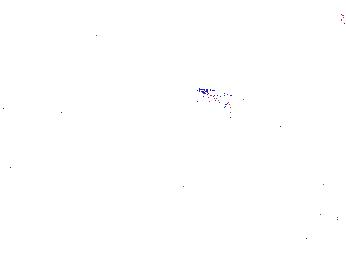glassfish: (154, 139, 189, 206), (126, 201, 176, 226)
redtail glassfish: (194, 87, 265, 122), (228, 4, 302, 30), (178, 55, 238, 84)
